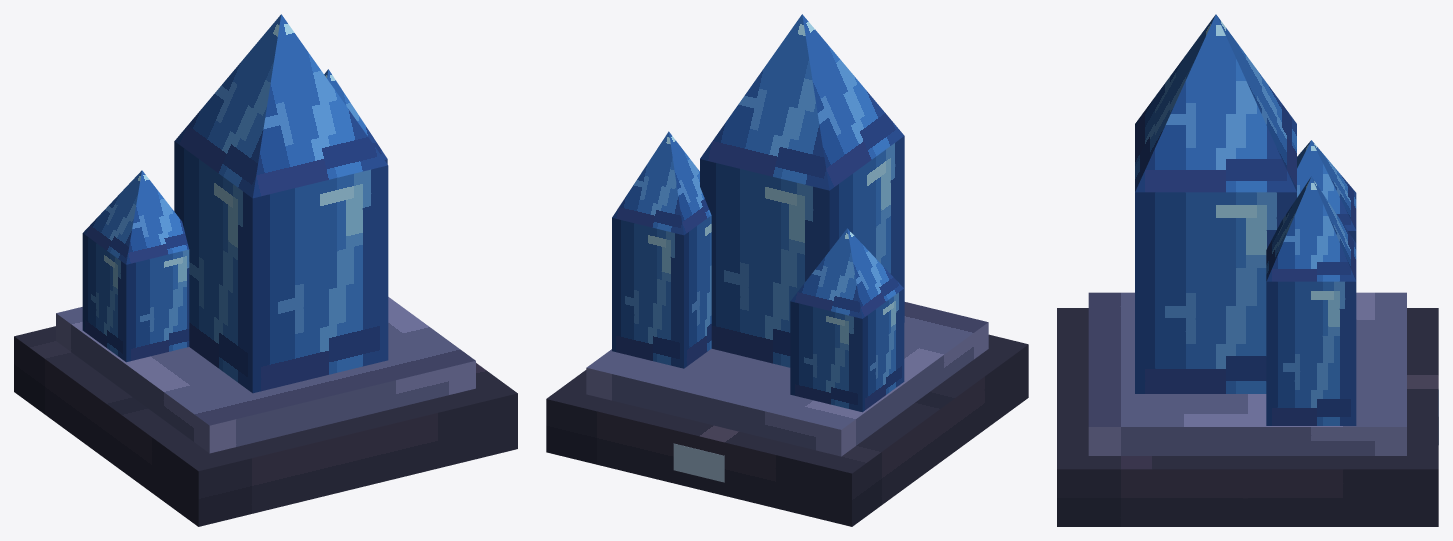
Rendered from star_storage_crystal.obj.
3 views of the same model, side by side, from view 1: azimuth 30°, elevation 25°; view 2: azimuth 150°, elevation 25°; view 3: azimuth 270°, elevation 25° (orthographic). The views are drawn at different scales.
Visible parts, largest first — view 1: Star_heart, Star_foot, Star_socket, Left_star_point, Right_star_point; view 2: Star_heart, Star_foot, Star_socket, Right_star_point, Left_star_point, Channel_inlay; view 3: Star_heart, Star_foot, Star_socket, Right_star_point, Left_star_point.
Boxes of the visible parts, box(x1,y1,x2,y2) form: Star_heart: box(174, 14, 388, 393); Star_foot: box(14, 326, 517, 526); Star_socket: box(56, 297, 475, 453); Left_star_point: box(82, 170, 189, 362); Right_star_point: box(324, 69, 387, 163); Star_heart: box(700, 14, 904, 367); Star_foot: box(546, 334, 1028, 526); Star_socket: box(586, 302, 988, 456); Right_star_point: box(612, 131, 711, 368); Left_star_point: box(790, 228, 904, 412); Channel_inlay: box(673, 443, 724, 482); Star_heart: box(1135, 14, 1296, 393); Star_foot: box(1057, 308, 1438, 526); Star_socket: box(1088, 292, 1406, 455); Right_star_point: box(1266, 176, 1356, 425); Left_star_point: box(1297, 140, 1356, 242).
Size of the model in its own units: 0.75 by 0.9375 by 0.7506.
